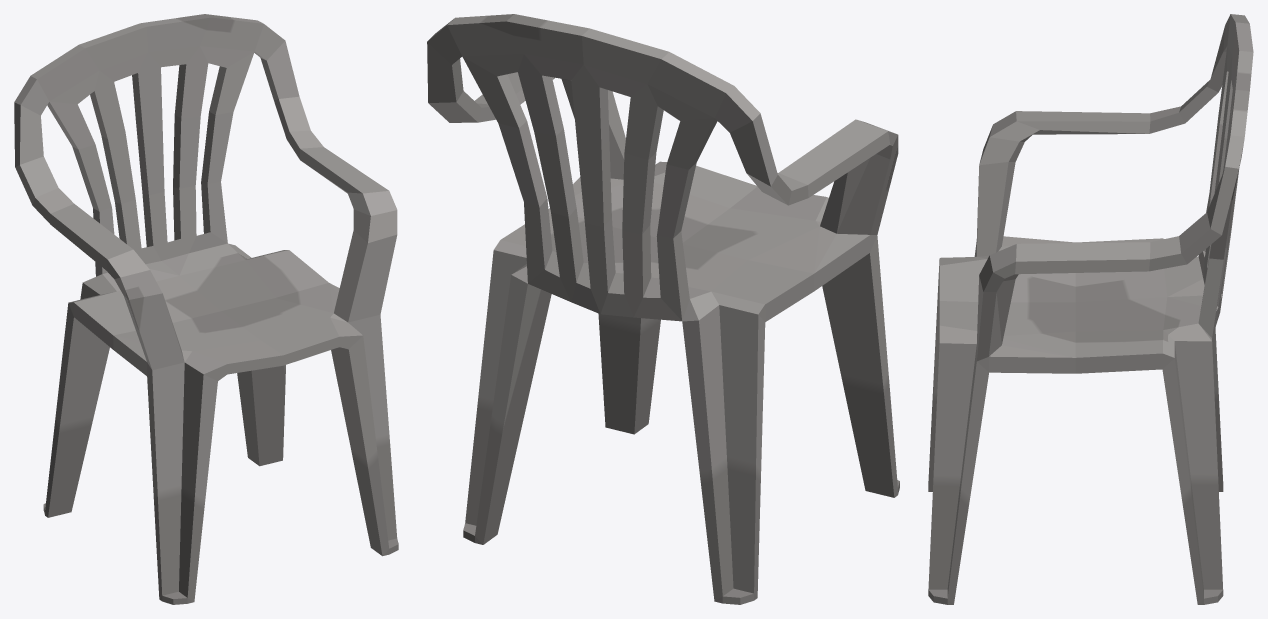
File: SM_Prop_Chair_Plastic_01.fbx
The picture shows the model from 3 angles, left to right: view 1: azimuth 30°, elevation 25°; view 2: azimuth 150°, elevation 25°; view 3: azimuth 270°, elevation 25°; orthographic projection. The views are drawn at different scales.
Visible parts, largest first — view 1: SM_Prop_Chair_Plastic_01; view 2: SM_Prop_Chair_Plastic_01; view 3: SM_Prop_Chair_Plastic_01.
Boxes of the visible parts, x1,y1,x2,y2 form: SM_Prop_Chair_Plastic_01: [14, 14, 398, 604]; SM_Prop_Chair_Plastic_01: [427, 14, 899, 604]; SM_Prop_Chair_Plastic_01: [928, 14, 1253, 604].
Size of the model in its own units: 66.54 by 100 by 60.19.
